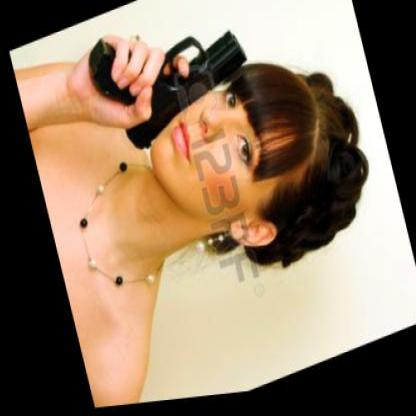pistol: (91, 0, 269, 160)
